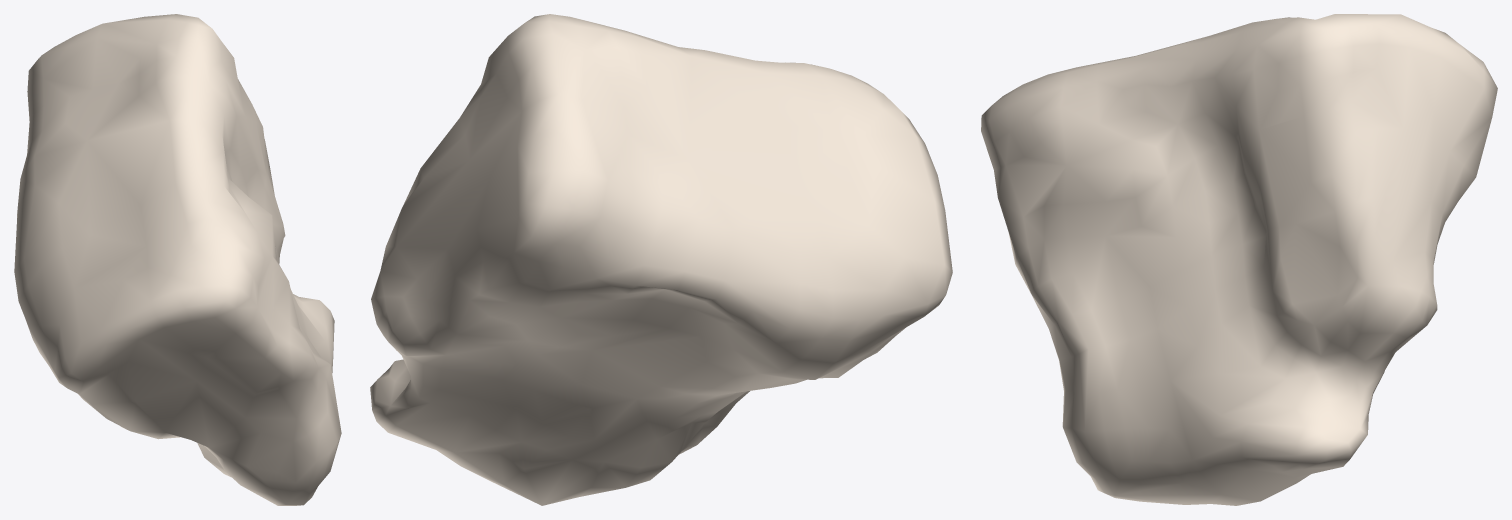
The model's file is right_lateral_cuneiform.glb.
3 renders of one model, left to right at view 1: azimuth 30°, elevation 25°; view 2: azimuth 150°, elevation 25°; view 3: azimuth 270°, elevation 25°, orthographic. The views are drawn at different scales.
Parts seen in each view (by area): view 1: Lateral cuneiform bone.r; view 2: Lateral cuneiform bone.r; view 3: Lateral cuneiform bone.r.
Part boxes in pixels (x1,y1,x2,y2): Lateral cuneiform bone.r: (14,14,341,505); Lateral cuneiform bone.r: (370,14,952,505); Lateral cuneiform bone.r: (981,14,1497,505).
Size of the model in its own units: 0.024 by 0.0268 by 0.0268.
